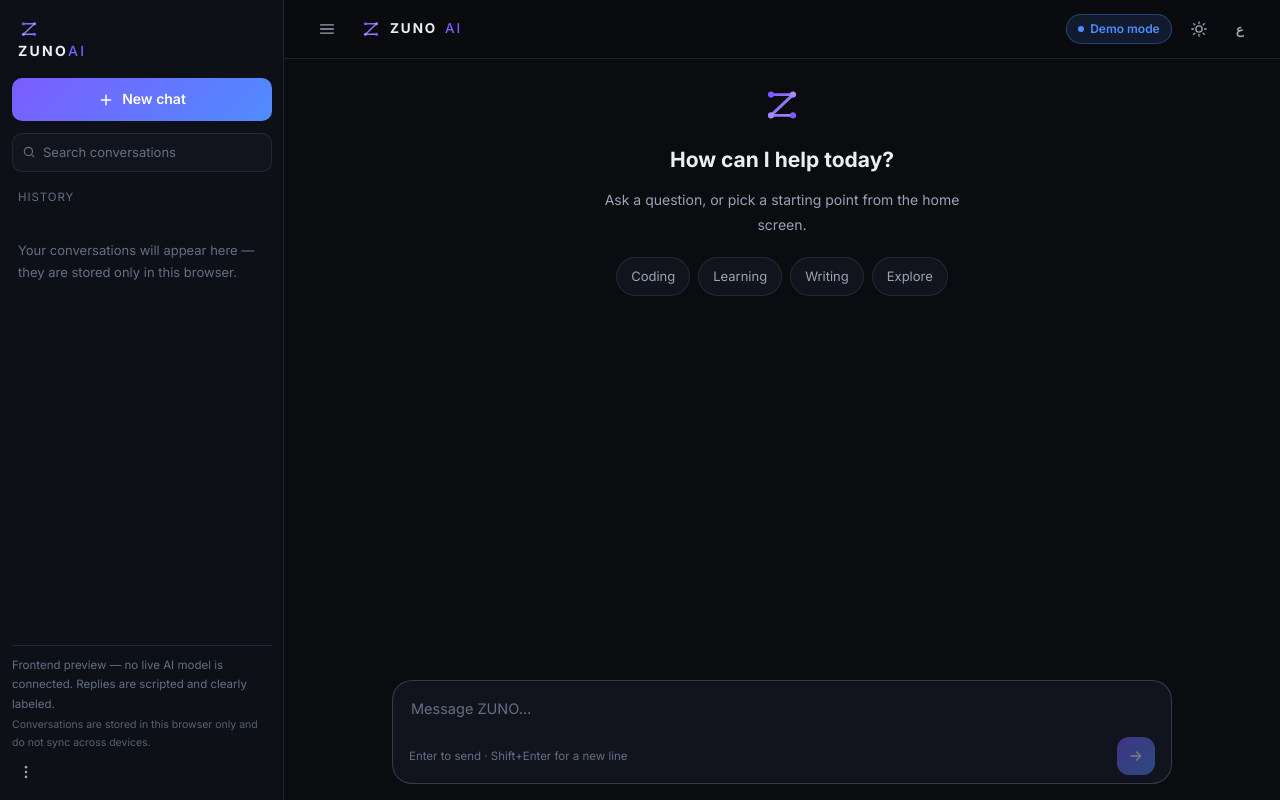
Test: Chat one-request invariant (spec T1–T6) › T5: Send appends one user message and one reply with a single request
Type "hi there" into the text box labelled "Message ZUNO…". click: [782, 713]
box: [403, 691, 1161, 735]
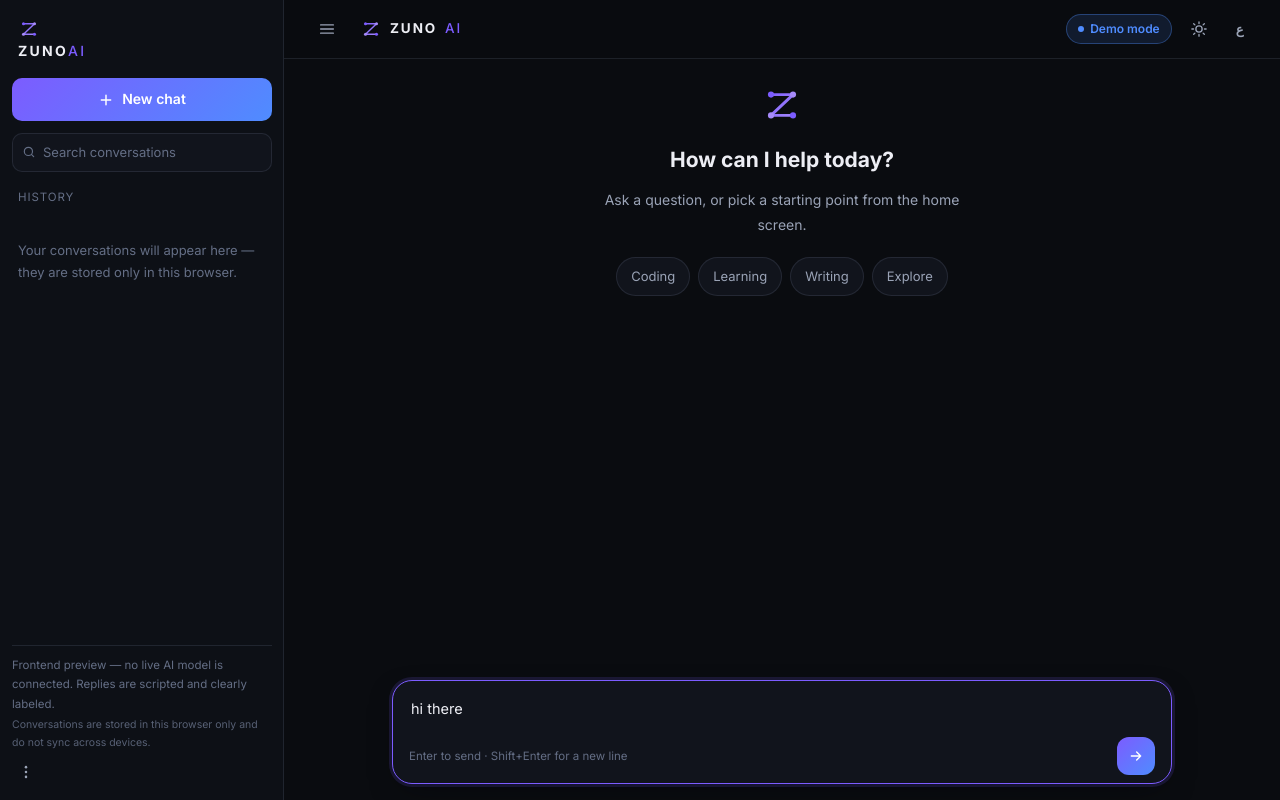
Click the button named "Send". click: [1136, 756]
box: [1117, 737, 1155, 775]
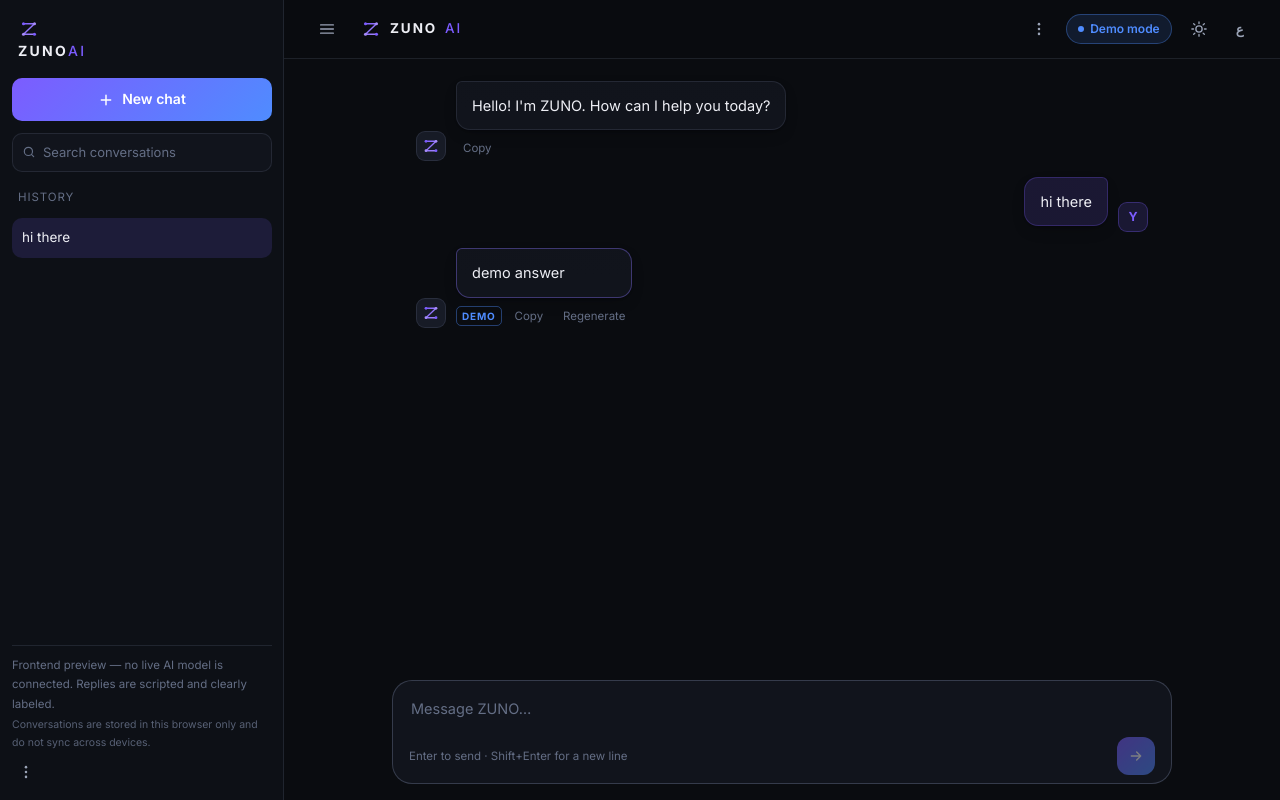
Now the text "demo answer" is shown, box [472, 264, 565, 281]
Now the button "hi there" is shown, box [12, 218, 240, 258]
